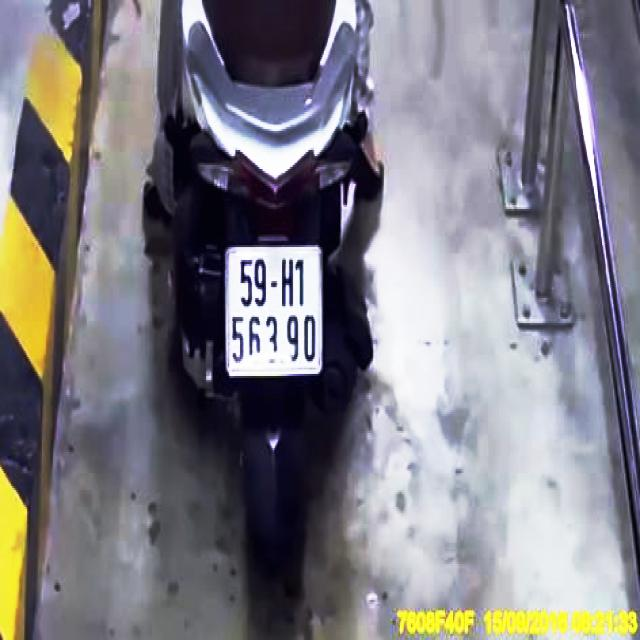license_plate: (229, 249, 323, 375)
